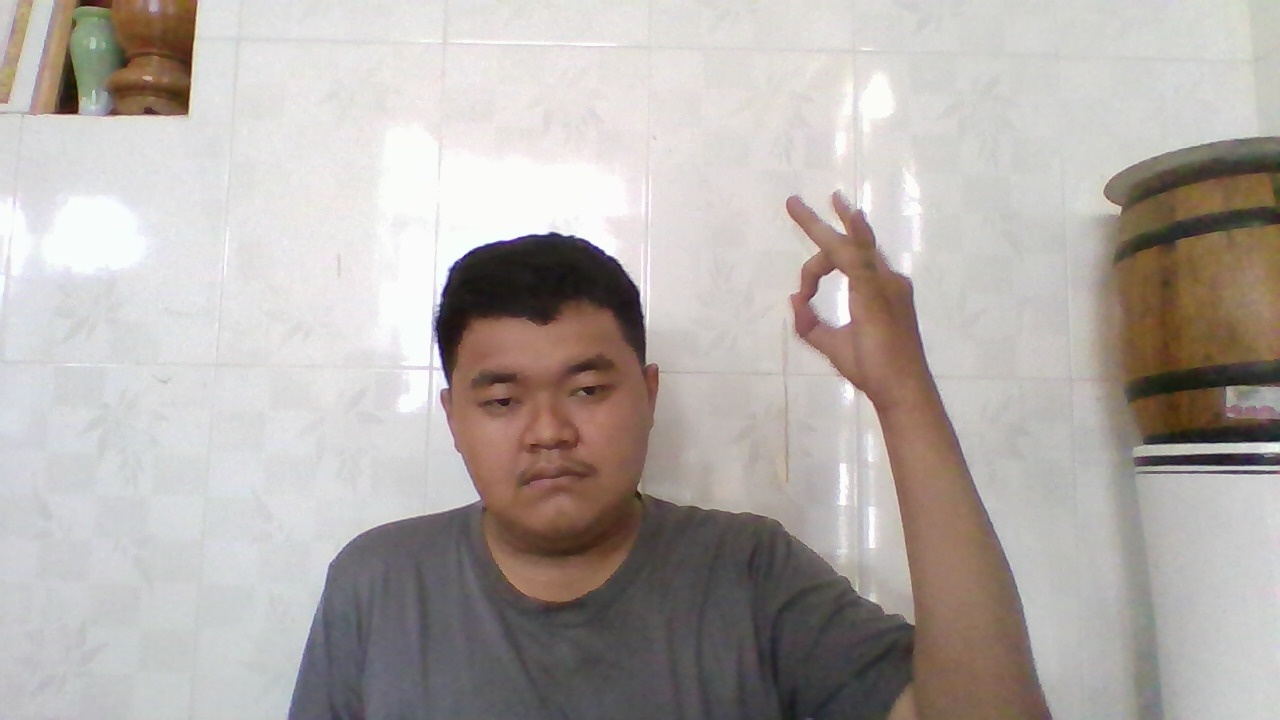H: (779, 180, 920, 411)
